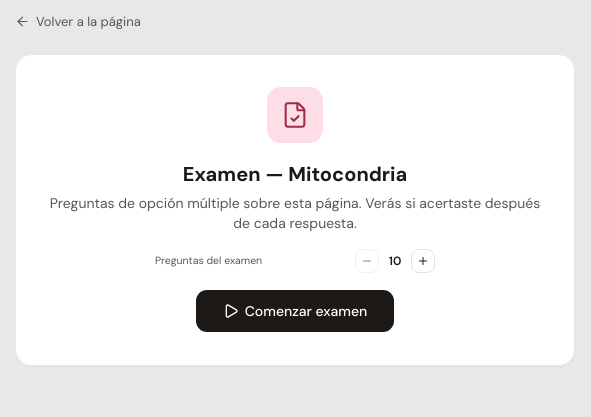
ExamStart › explains a refused start
The image size is (591, 417).
Click the button with test id "start-exam-button".
click(295, 310)  # box [195,288,395,332]
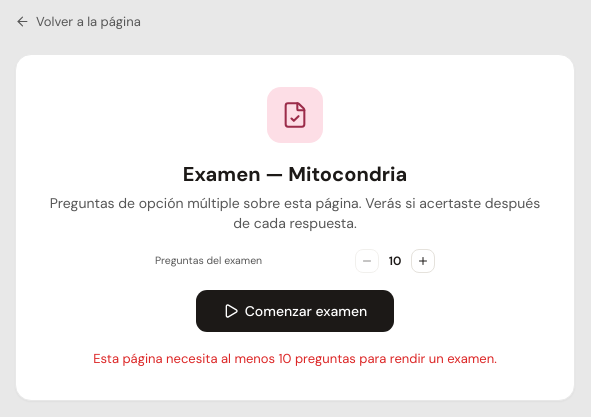
Expected: the message shows "al menos 10 preguntas", [93,350,497,366]
